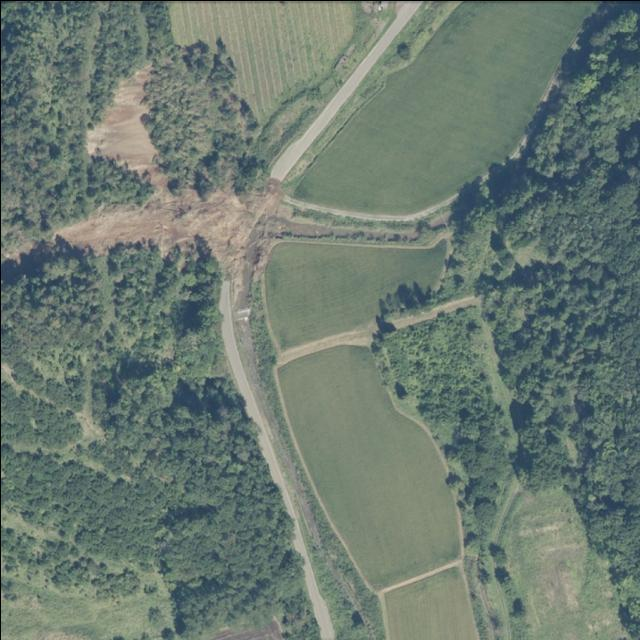landslide: (56, 64, 279, 274)
